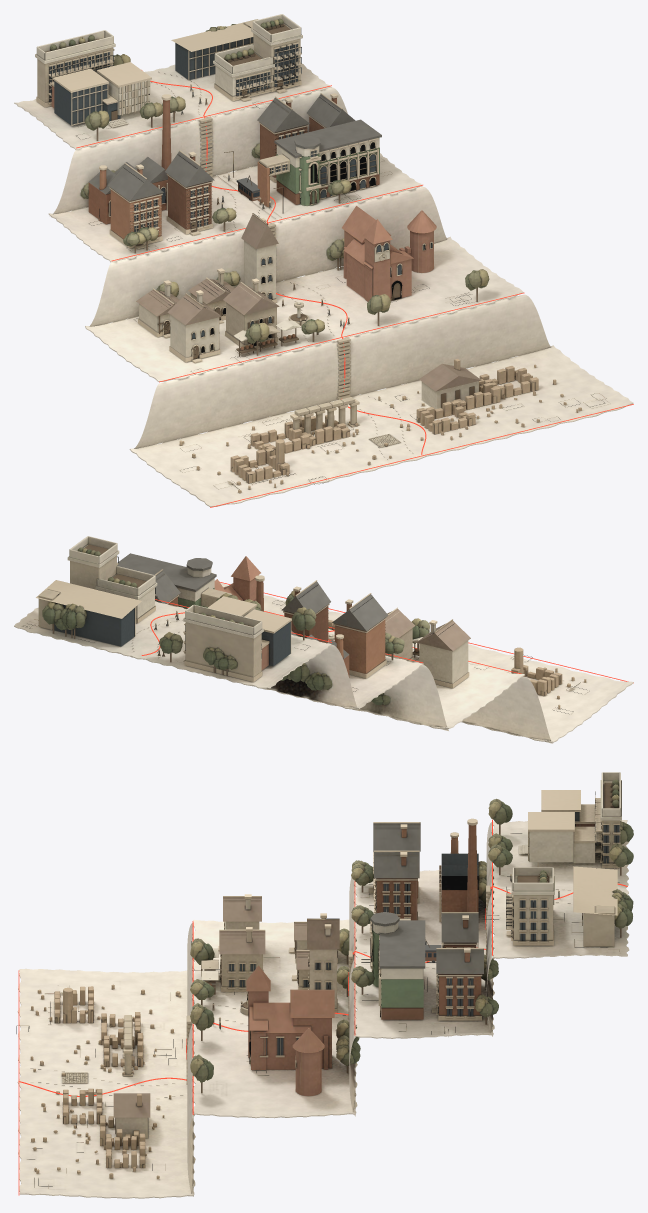
File: PALIMPSEST_web.glb
3 renders of one model, top to bottom at view 1: azimuth 30°, elevation 25°; view 2: azimuth 150°, elevation 25°; view 3: azimuth 270°, elevation 25°, orthographic. The views are drawn at different scales.
Parts seen in each view (by area): view 1: Baked paper city, Timeline; view 2: Baked paper city; view 3: Baked paper city.
Boxes of the visible parts, x1,y1,x2,y2 form: Baked paper city: [14, 14, 633, 506]; Timeline: [142, 70, 426, 454]; Baked paper city: [14, 536, 633, 743]; Baked paper city: [16, 772, 633, 1198].
Bounding box in the file's own units: 17.48 × 9.4 × 20.3.
3 materials, 1 textured.
